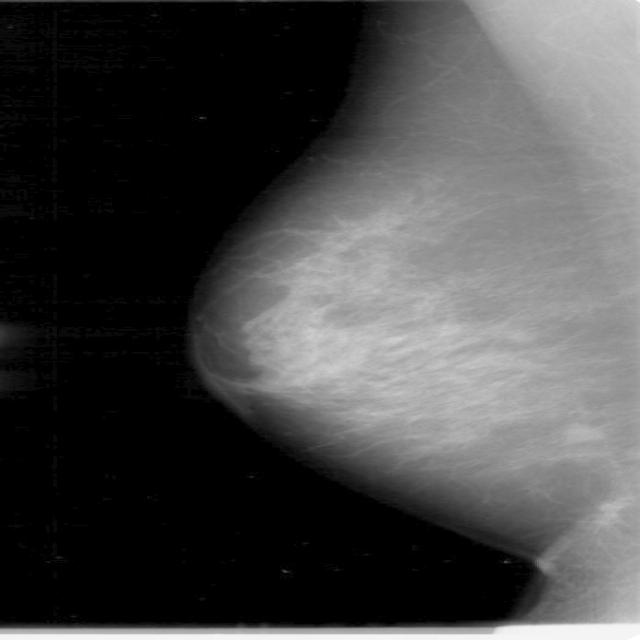tumour: (561, 420, 603, 443)
